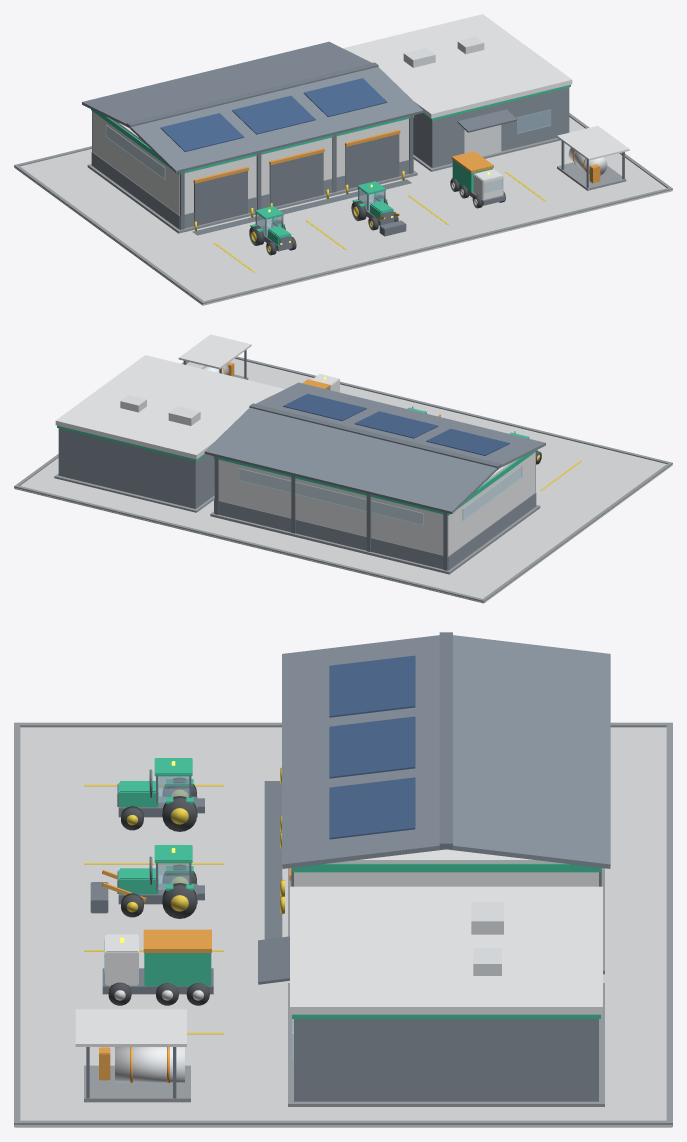
File: m_machinery_zone.glb
The picture shows the model from 3 angles, top to bottom: view 1: azimuth 30°, elevation 25°; view 2: azimuth 150°, elevation 25°; view 3: azimuth 270°, elevation 25°; orthographic projection. The views are drawn at different scales.
Visible parts, largest first — view 1: M_Pad, M_Parts_Parapet, M_Hangar_RoofS, M_Hangar_RoofN, M_Hangar_Body, M_Parts_Body, M_Hangar_DoorFrame_1, M_Hangar_DoorFrame_2, M_Hangar_DoorFrame_0, M_Hangar_BaseBand, M_Hangar_Solar_1, M_Hangar_Solar_0 (+19 smaller); view 2: M_Pad, M_Hangar_RoofN, M_Hangar_Body, M_Parts_Parapet, M_Parts_Body, M_Hangar_RoofS, M_Hangar_BaseBand, M_Hangar_WinN, M_Curb_N, M_Hangar_Plinth, M_Hangar_Ridge, M_Fuel_Canopy (+10 smaller); view 3: M_Pad, M_Parts_Parapet, M_Hangar_RoofN, M_Parts_Body, M_Hangar_RoofS, M_Hangar_Body, M_Hangar_Solar_0, M_Hangar_Solar_1, M_Hangar_Solar_2, M_Fuel_Canopy, M_Curb_E, M_Hangar_Ridge (+23 smaller).
Part boxes in pixels (x1,y1,x2,y2): M_Pad: [14, 117, 672, 305]; M_Parts_Parapet: [343, 14, 572, 118]; M_Hangar_RoofS: [130, 67, 423, 173]; M_Hangar_RoofN: [82, 41, 371, 126]; M_Hangar_Body: [92, 111, 408, 215]; M_Parts_Body: [413, 87, 569, 167]; M_Hangar_DoorFrame_1: [269, 152, 323, 206]; M_Hangar_DoorFrame_2: [345, 134, 399, 188]; M_Hangar_DoorFrame_0: [194, 171, 247, 225]; M_Hangar_BaseBand: [91, 151, 413, 229]; M_Hangar_Solar_1: [232, 95, 315, 134]; M_Hangar_Solar_0: [160, 113, 244, 151]; M_Pad: [14, 358, 672, 603]; M_Hangar_RoofN: [204, 407, 497, 513]; M_Hangar_Body: [219, 452, 535, 556]; M_Parts_Parapet: [55, 355, 284, 459]; M_Parts_Body: [58, 428, 214, 508]; M_Hangar_RoofS: [256, 382, 545, 467]; M_Hangar_BaseBand: [214, 492, 536, 570]; M_Hangar_WinN: [239, 468, 423, 525]; M_Curb_N: [14, 485, 485, 601]; M_Hangar_Plinth: [210, 505, 540, 574]; M_Hangar_Ridge: [249, 403, 501, 469]; M_Fuel_Canopy: [178, 334, 251, 369]; M_Pad: [14, 727, 672, 1127]; M_Parts_Parapet: [290, 886, 602, 1014]; M_Hangar_RoofN: [447, 635, 610, 868]; M_Parts_Body: [294, 1019, 598, 1101]; M_Hangar_RoofS: [282, 635, 445, 868]; M_Hangar_Body: [294, 849, 598, 886]; M_Hangar_Solar_0: [329, 655, 415, 717]; M_Hangar_Solar_1: [329, 716, 415, 778]; M_Hangar_Solar_2: [329, 777, 415, 839]; M_Fuel_Canopy: [75, 1009, 186, 1046]; M_Curb_E: [20, 1120, 666, 1125]; M_Hangar_Ridge: [439, 632, 452, 849].
Size of the model in its own units: 46 by 7.37 by 32.
